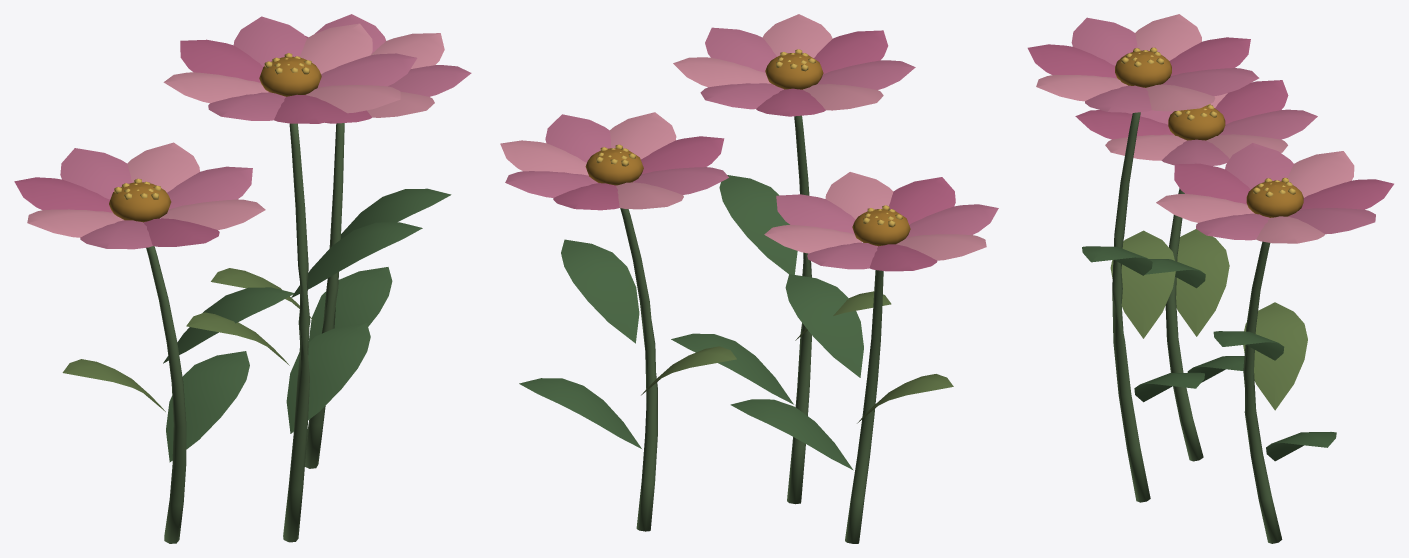
File: cosmos.glb
3 renders of one model, left to right at view 1: azimuth 30°, elevation 25°; view 2: azimuth 150°, elevation 25°; view 3: azimuth 270°, elevation 25°, orthographic. The views are drawn at different scales.
Parts seen in each view (by area): view 1: Flower_mesh.001; view 2: Flower_mesh.001; view 3: Flower_mesh.001.
Boxes of the visible parts, bbox=[...] form: Flower_mesh.001: bbox=[14, 14, 471, 543]; Flower_mesh.001: bbox=[500, 14, 998, 543]; Flower_mesh.001: bbox=[1027, 14, 1393, 543].
Size of the model in its own units: 0.6712 by 0.6562 by 0.4895.
